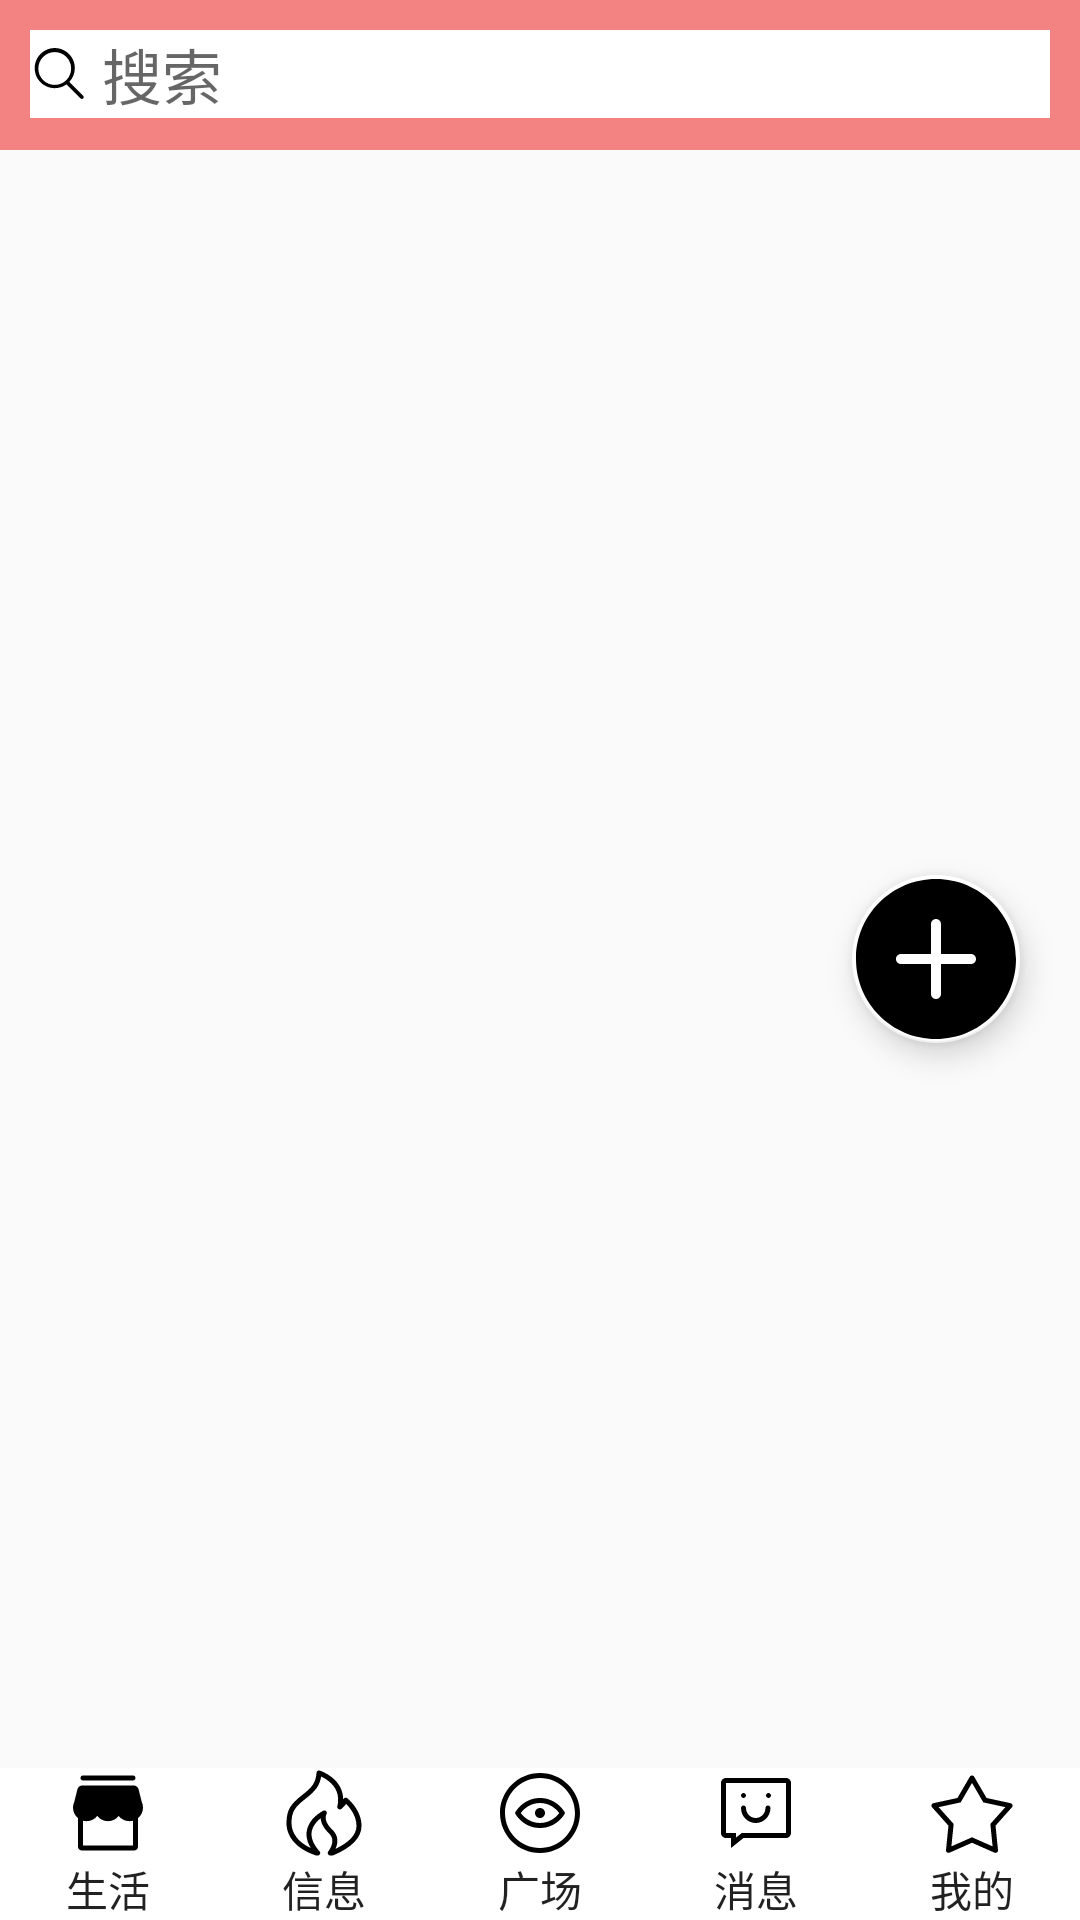

Icon bounding boxes for this 1080*1920 phone screenshot, format (left=x1, top=y1, right=x2, bottom=y2):
ze add: (left=856, top=879, right=1019, bottom=1039)
